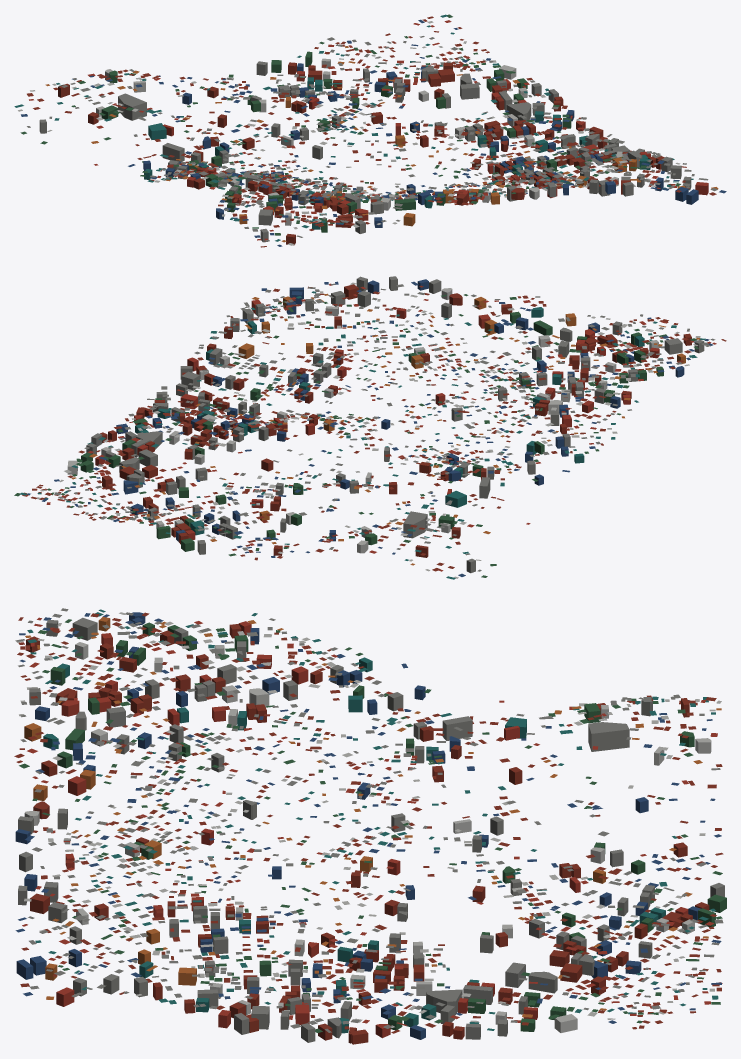
The model's file is far-15-27359-14868.ecaa963d.glb.
3 views of the same model, one above another, from view 1: azimuth 30°, elevation 25°; view 2: azimuth 150°, elevation 25°; view 3: azimuth 270°, elevation 25° (orthographic). The views are drawn at different scales.
Size of the model in its own units: 1187 by 257 by 1186.
